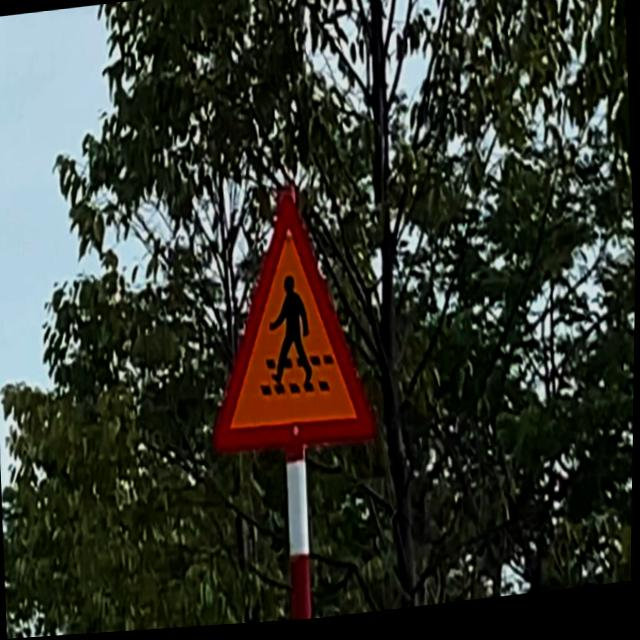Nguoi di bo cat ngang: (198, 186, 381, 465)
